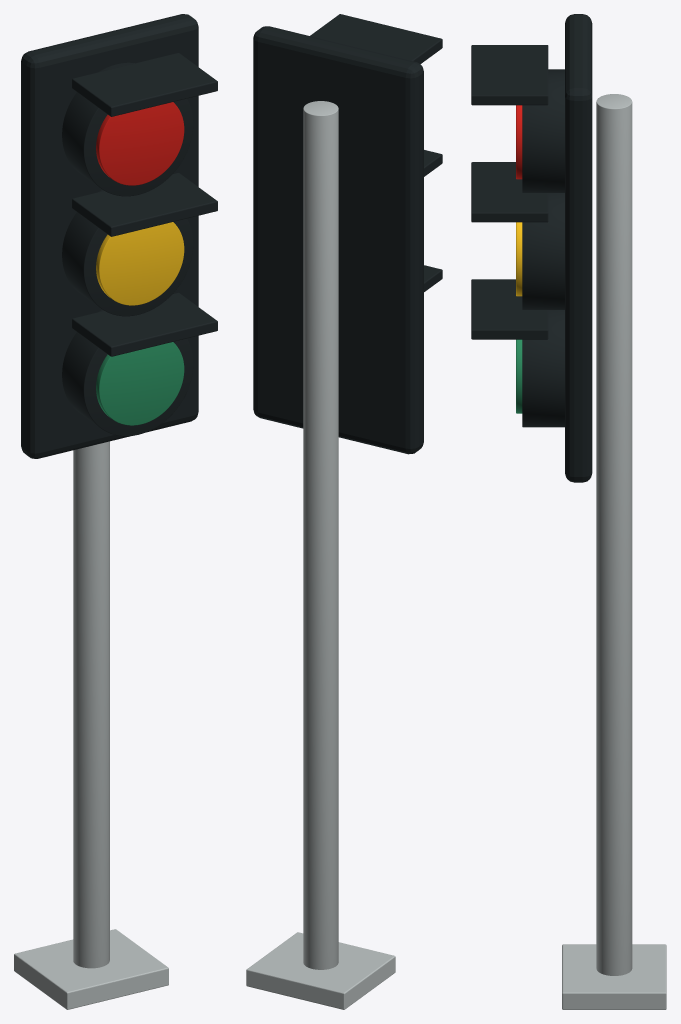
The model's file is traffic_signal_head.glb.
The picture shows the model from 3 angles, left to right: view 1: azimuth 30°, elevation 25°; view 2: azimuth 150°, elevation 25°; view 3: azimuth 270°, elevation 25°; orthographic projection. The views are drawn at different scales.
Parts seen in each view (by area): view 1: VEHICLE_backplate, MAST_support, MAST_base, LENS_green, LENS_amber, LENS_red, VISOR_red, VISOR_amber, VISOR_green, HOUSING_red, HOUSING_amber, HOUSING_green; view 2: VEHICLE_backplate, MAST_support, MAST_base, VISOR_red; view 3: MAST_support, VEHICLE_backplate, MAST_base, VISOR_red, HOUSING_red, HOUSING_green, HOUSING_amber, VISOR_amber, VISOR_green, LENS_amber, LENS_green, LENS_red.
Boxes of the visible parts, box(x1,y1,x2,y2) form: VEHICLE_backplate: box(21, 14, 198, 458); MAST_support: box(73, 441, 109, 968); MAST_base: box(14, 929, 168, 1009); LENS_green: box(96, 342, 184, 425); LENS_amber: box(96, 222, 184, 305); LENS_red: box(96, 102, 184, 185); VISOR_red: box(72, 53, 217, 116); VISOR_amber: box(72, 173, 217, 236); VISOR_green: box(72, 292, 217, 356); HOUSING_red: box(62, 62, 193, 196); HOUSING_amber: box(62, 189, 193, 316); HOUSING_green: box(62, 309, 193, 436); VEHICLE_backplate: box(253, 26, 423, 454); MAST_support: box(303, 101, 338, 969); MAST_base: box(246, 932, 395, 1009); VISOR_red: box(310, 14, 442, 63); MAST_support: box(596, 94, 632, 975); VEHICLE_backplate: box(565, 14, 592, 482); MAST_base: box(562, 944, 666, 1009); VISOR_red: box(471, 45, 548, 105); HOUSING_red: box(522, 69, 564, 192); HOUSING_green: box(522, 310, 564, 427); HOUSING_amber: box(522, 193, 564, 309); VISOR_amber: box(471, 162, 548, 222); VISOR_green: box(471, 279, 548, 339); LENS_amber: box(516, 222, 522, 296); LENS_green: box(516, 339, 522, 413); LENS_red: box(516, 105, 522, 179).
Bounding box in the file's own units: 0.7 × 3.75 × 0.71.
